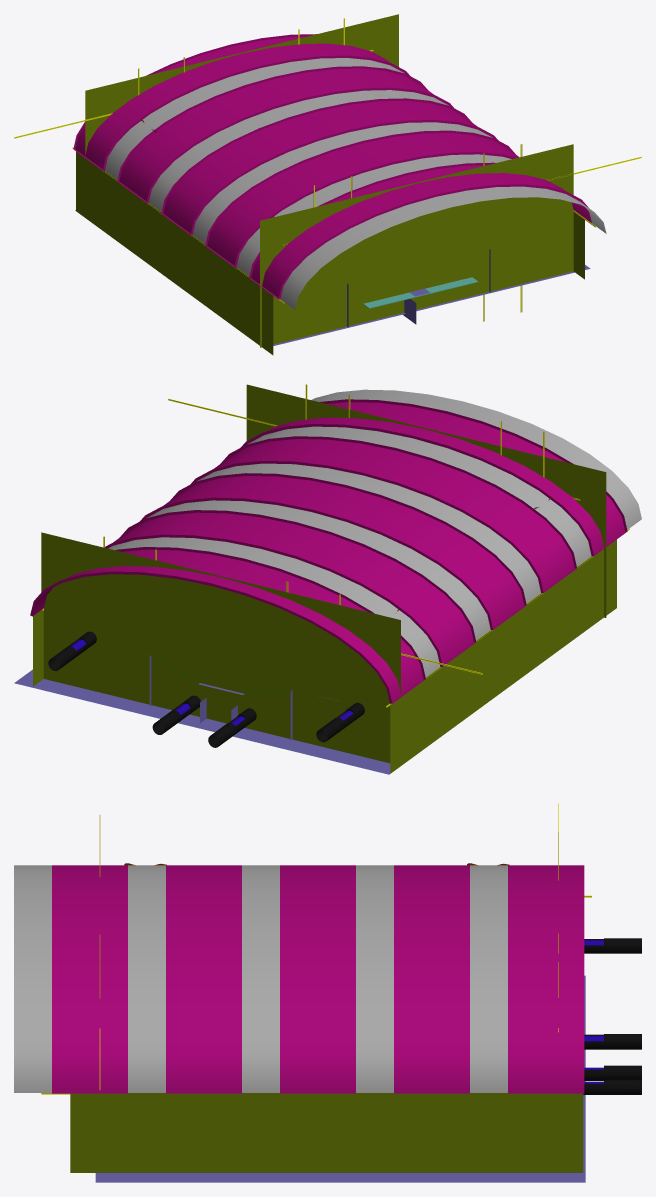
The model's file is MAAP.fbx.
3 views of the same model, one above another, from view 1: azimuth 30°, elevation 25°; view 2: azimuth 150°, elevation 25°; view 3: azimuth 270°, elevation 25° (orthographic). The views are drawn at different scales.
Visible parts, largest first — view 1: Bigwalls2; view 2: Bigwalls2; view 3: Bigwalls2.
Part boxes in pixels (box(x1,y1,x2,y2)): Bigwalls2: box(14, 14, 641, 355); Bigwalls2: box(14, 384, 641, 774); Bigwalls2: box(14, 803, 641, 1182).
Size of the model in its own units: 86.88 by 32.71 by 80.73.
